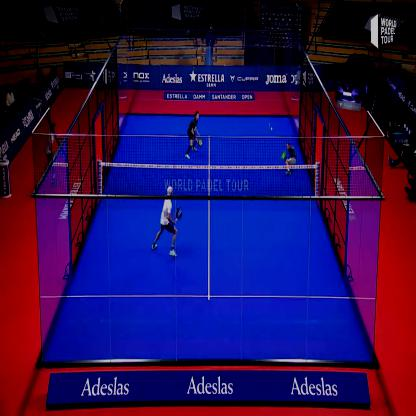ball: (269, 123, 275, 135)
